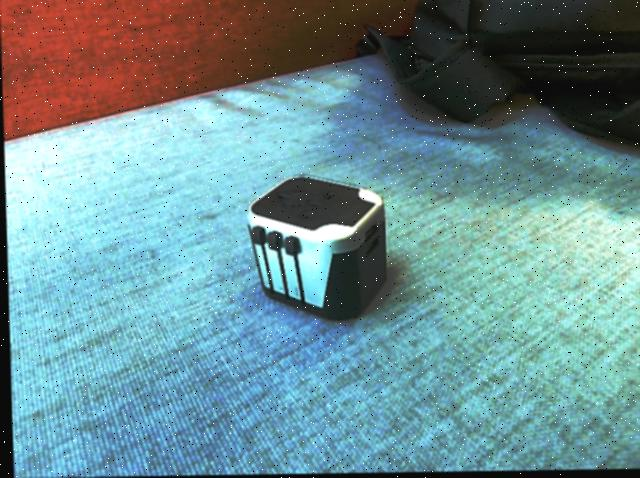adapter: (244, 174, 386, 323)
